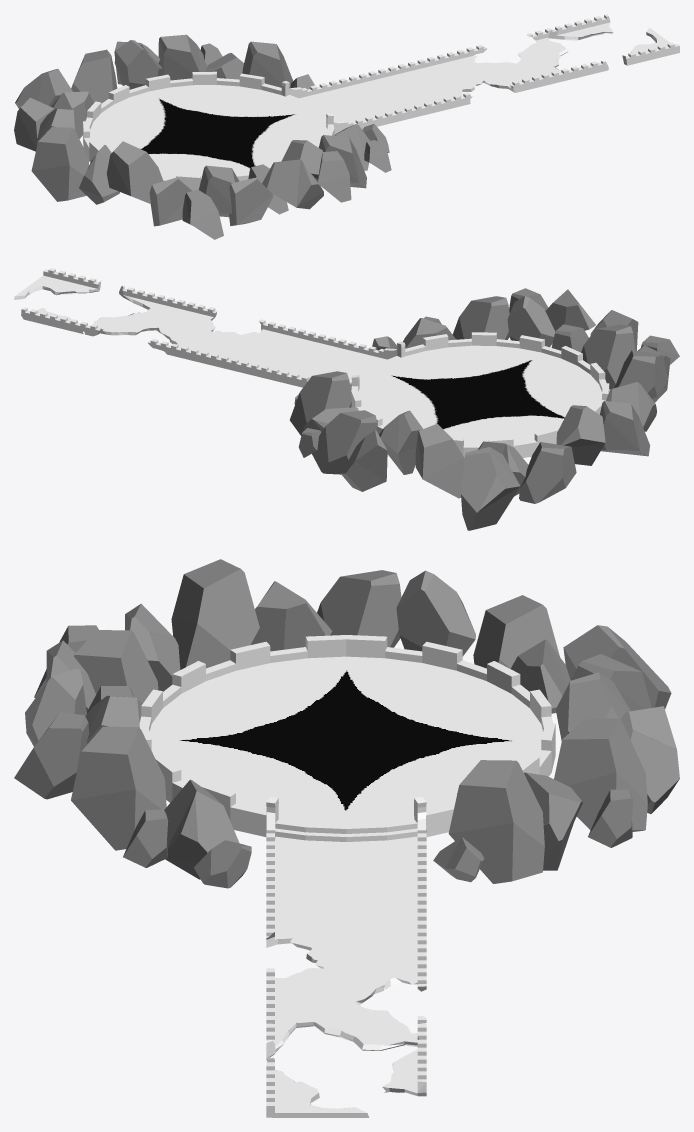
File: Portal.fbx
3 renders of one model, top to bottom at view 1: azimuth 30°, elevation 25°; view 2: azimuth 150°, elevation 25°; view 3: azimuth 270°, elevation 25°, orthographic. The views are drawn at different scales.
Parts seen in each view (by area): view 1: Roca 1.003; view 2: Roca 1.003; view 3: Roca 1.003.
Boxes of the visible parts, x1,y1,x2,y2 form: Roca 1.003: [14, 14, 679, 239]; Roca 1.003: [14, 268, 679, 530]; Roca 1.003: [14, 559, 679, 1117].
Size of the model in its own units: 34850 by 5251 by 19732.
Materials: 2 (1 with a texture image).
